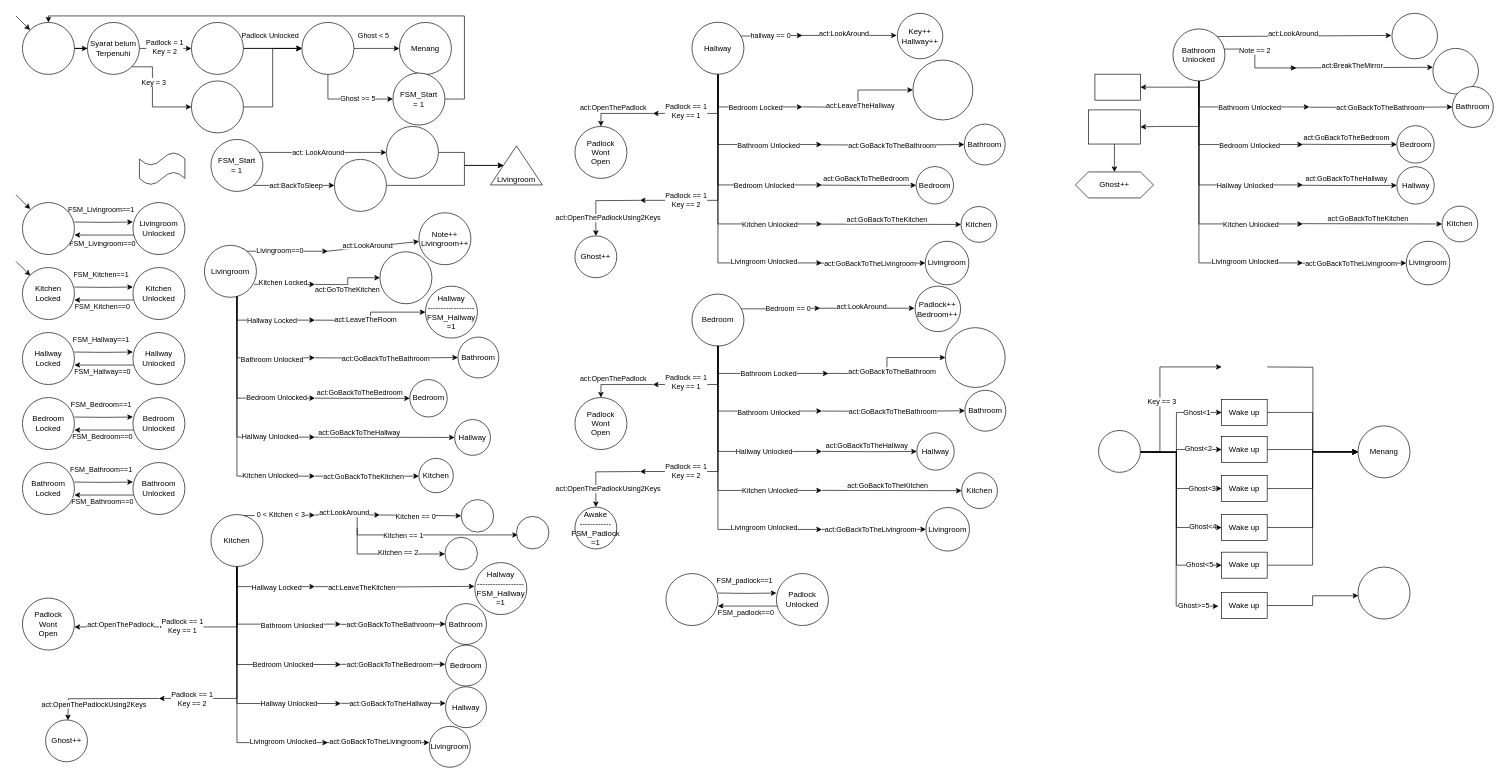
This 1505x779 diagram has some shape labels left out. The centre of each missing label's shape, as x and y in pixels:
Awake: point 1119,451
Bangun: point 327,48
Bathroom --------------------- FSM_Bathroom =1: point 975,357
Bedroom --------------------- FSM_Bedroom =1: point 942,89
FSM_Livingroom = 1: point 412,152
FSM_Livingroom = 1 && Ghost ++: point 360,185
Game_FSM: point 162,168
Ghost++ Bathroom++: point 1414,36
Kalah: point 1383,592
Kitchen ------------------ FSM_Kitchen =1: point 405,277
Kitchen++: point 460,553
Kitchen++ Key++: point 532,532
Kitchen++ Note++: point 477,515
Livingroom Locked: point 48,228
Note++ Key++: point 1455,71
Open the padlock: point 1117,87
Open the padlock using 2 keys: point 1114,126
Padlock Locked: point 691,599
Start ---------------- Padlock=0 Key=0 Ghost=0 All FSM=0: point 48,48
Syarat Alternatif Terpenuhi: point 217,106
Syarat Keluar Terpenuhi: point 217,48
